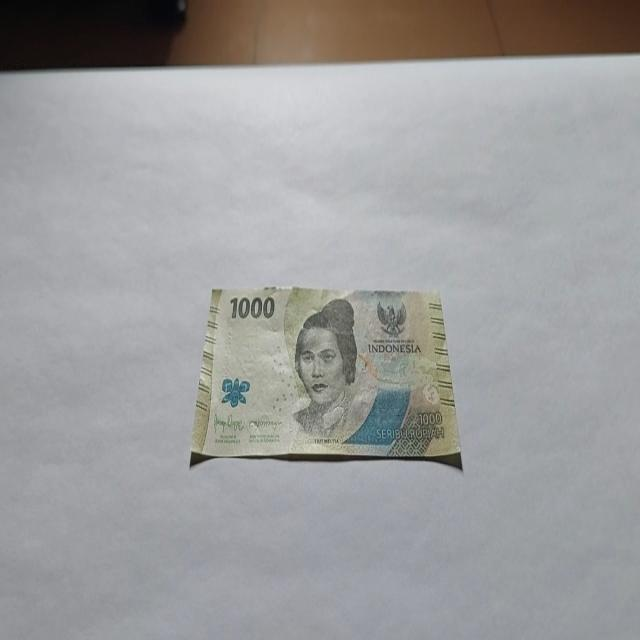seribu rupiah kertas: (188, 284, 462, 470)
